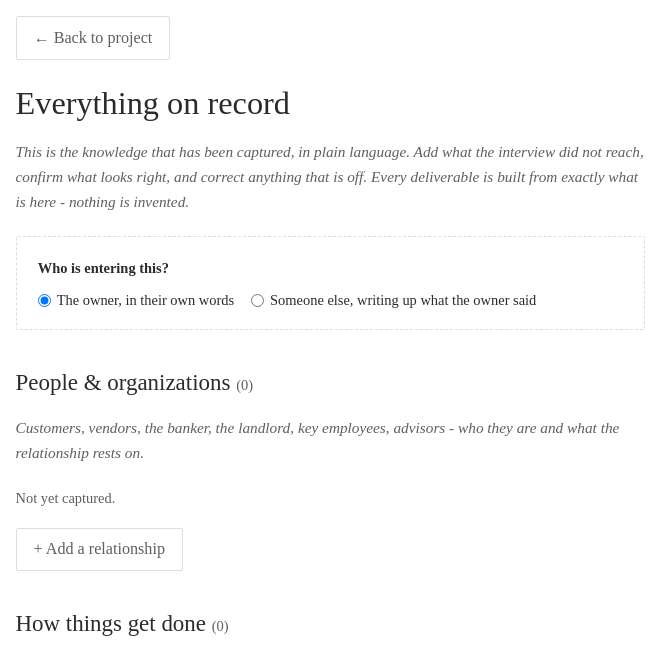
Test: KnowledgeScreen: who is entering this › warns the operator that their entries need the owner's confirmation
Expected: the text "your interpretation, not the owner" is not shown
What coordinates should you click on to do the following:
click the radio button labelled "Someone else, writing up what the owner said"
I would click on:
 (258, 300)
Its box is x1=251 y1=294 x2=264 y2=307.
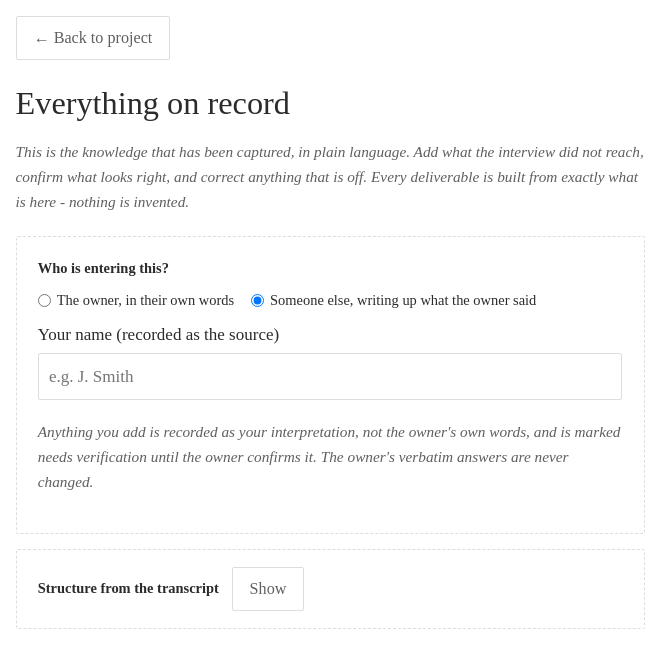
Expected: the text "your interpretation, not the owner" is shown, x1=38 y1=423 x2=620 y2=440
